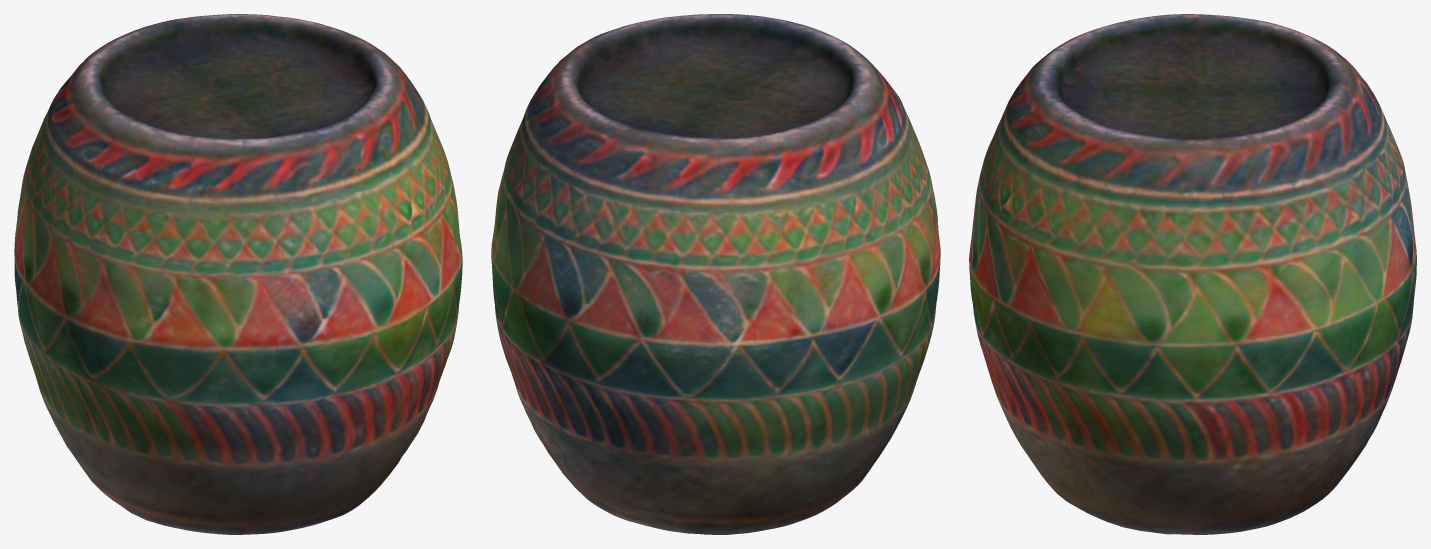
The model's file is cd0cf1bb-9df5-4c9b-8391-cba9ba66909d.glb.
The picture shows the model from 3 angles, left to right: view 1: azimuth 30°, elevation 25°; view 2: azimuth 150°, elevation 25°; view 3: azimuth 270°, elevation 25°; orthographic projection.
Parts seen in each view (by area): view 1: mesh; view 2: mesh; view 3: mesh.
Part boxes in pixels (x1,y1,x2,y2): mesh: (14, 14, 462, 534); mesh: (491, 14, 940, 534); mesh: (969, 14, 1416, 534).
Size of the model in its own units: 0.9919 by 0.9994 by 0.992.
1 material, 1 textured.
